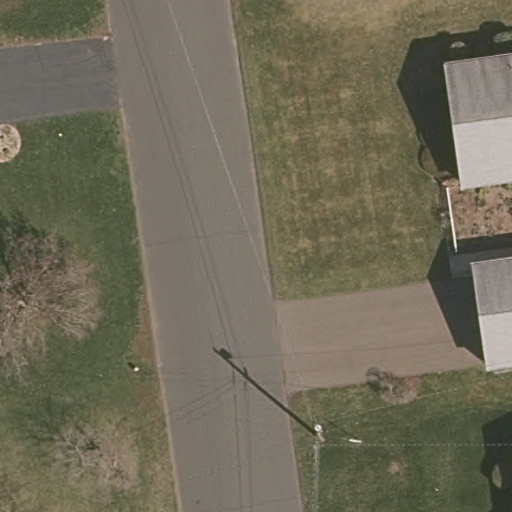DT: (306, 421, 365, 449)
